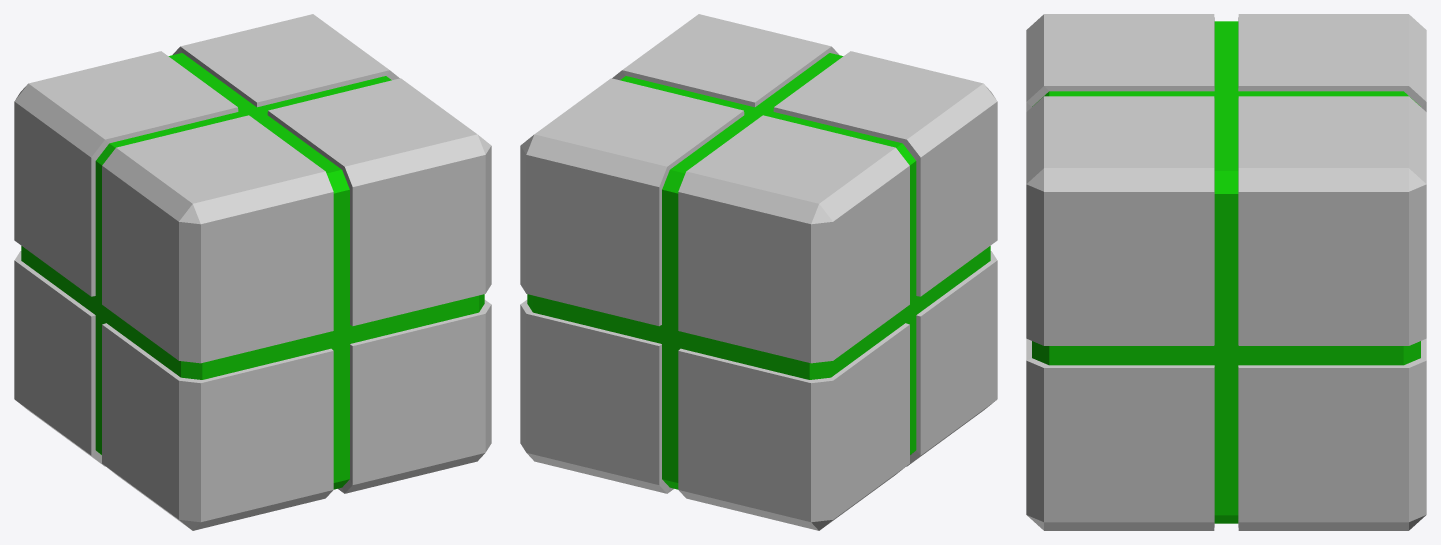
Rendered from cross.fbx.
The picture shows the model from 3 angles, left to right: view 1: azimuth 30°, elevation 25°; view 2: azimuth 150°, elevation 25°; view 3: azimuth 270°, elevation 25°; orthographic projection. The views are drawn at different scales.
Visible parts, largest first — view 1: StandardCube; view 2: StandardCube; view 3: StandardCube.
Part boxes in pixels (x1,y1,x2,y2): StandardCube: [14, 14, 491, 530]; StandardCube: [520, 14, 997, 530]; StandardCube: [1026, 14, 1426, 530].
Size of the model in its own units: 2 by 2 by 2.
